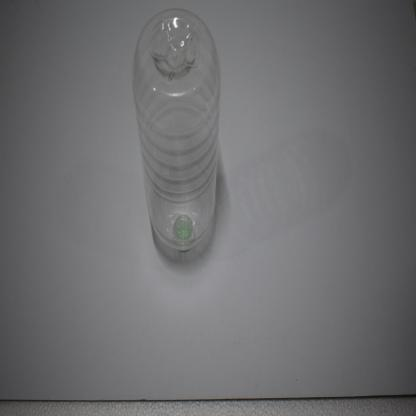Glass Bottle: (132, 8, 220, 251)
